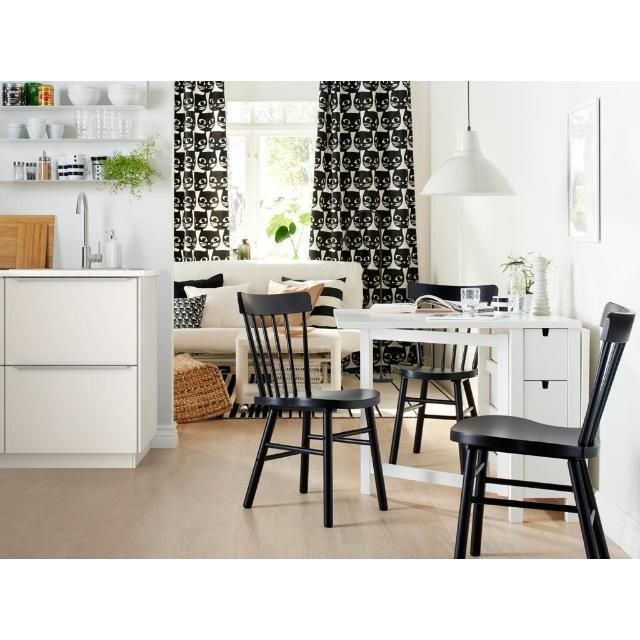chair: (450, 304, 635, 558), (238, 292, 388, 527), (390, 342, 478, 463)
curtain: (309, 81, 419, 307), (174, 81, 230, 261)
light: (421, 81, 515, 196)
pillow: (184, 284, 248, 328), (174, 295, 206, 328)
plant: (98, 135, 162, 199)
table: (334, 308, 589, 427)
wall-art: (568, 98, 600, 242)
